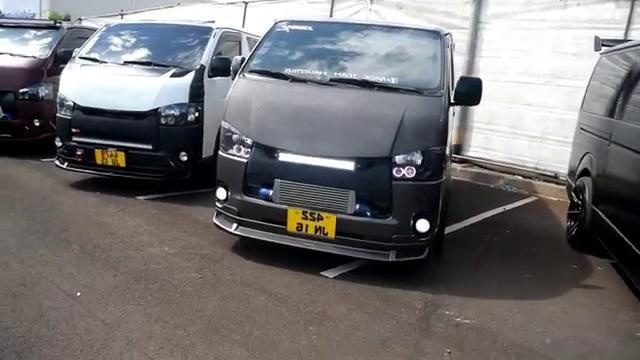van: (209, 26, 473, 263), (42, 21, 257, 203)
